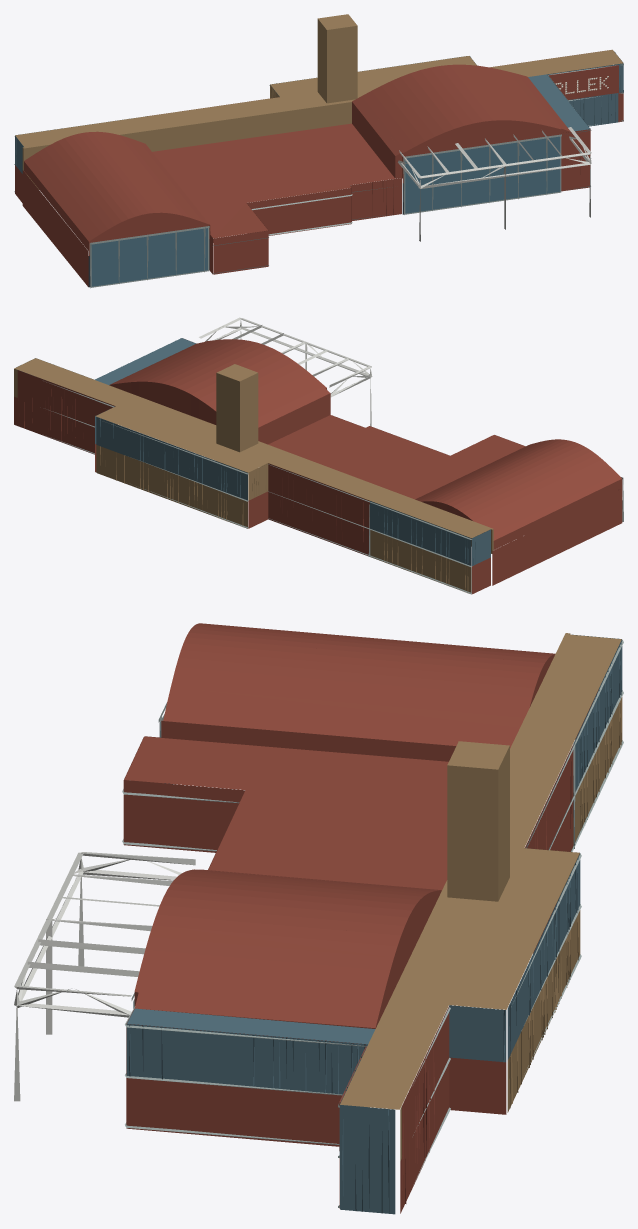
File: pllek.lod1.glb
The picture shows the model from 3 angles, top to bottom: view 1: azimuth 30°, elevation 25°; view 2: azimuth 150°, elevation 25°; view 3: azimuth 270°, elevation 25°; orthographic projection. The views are drawn at different scales.
Visible parts, largest first — view 1: pllek; view 2: pllek; view 3: pllek.
Part boxes in pixels (left/top/right/bottom): pllek: left=14, top=14, right=623, bottom=288; pllek: left=14, top=317, right=623, bottom=594; pllek: left=14, top=623, right=623, bottom=1214.
Size of the model in its own units: 57.59 by 12.55 by 29.29.
